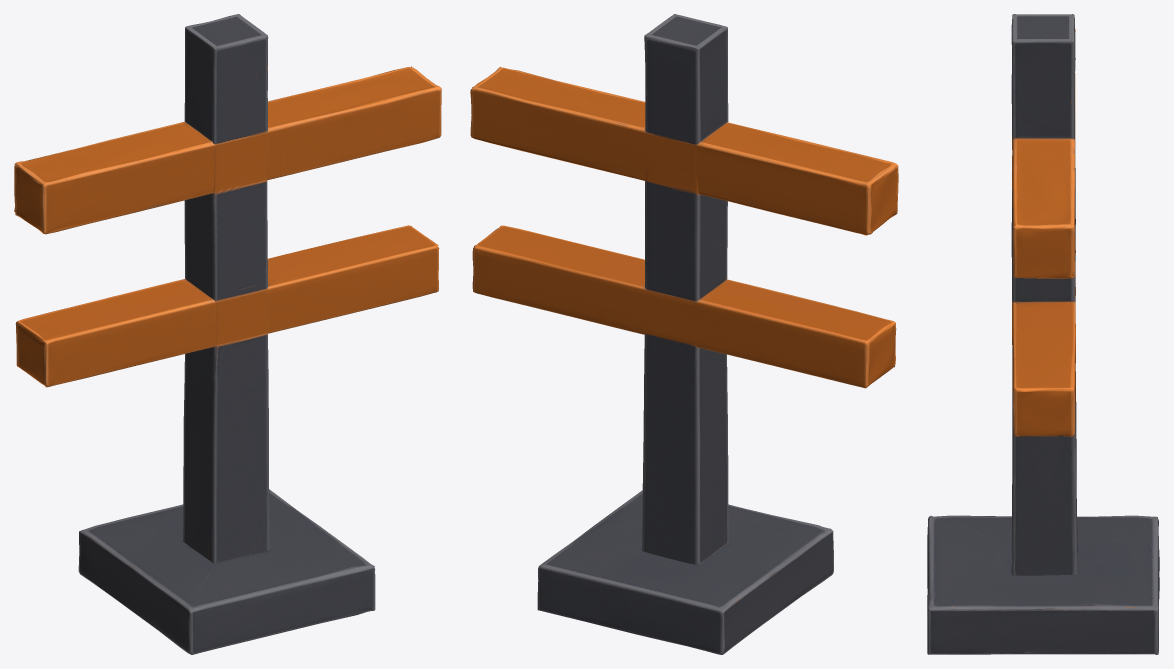
Rendered from antennaMast.glb.
3 views of the same model, side by side, from view 1: azimuth 30°, elevation 25°; view 2: azimuth 150°, elevation 25°; view 3: azimuth 270°, elevation 25° (orthographic). The views are drawn at different scales.
Size of the model in its own units: 0.7461 by 1 by 0.3633.
1 material, 1 textured.
